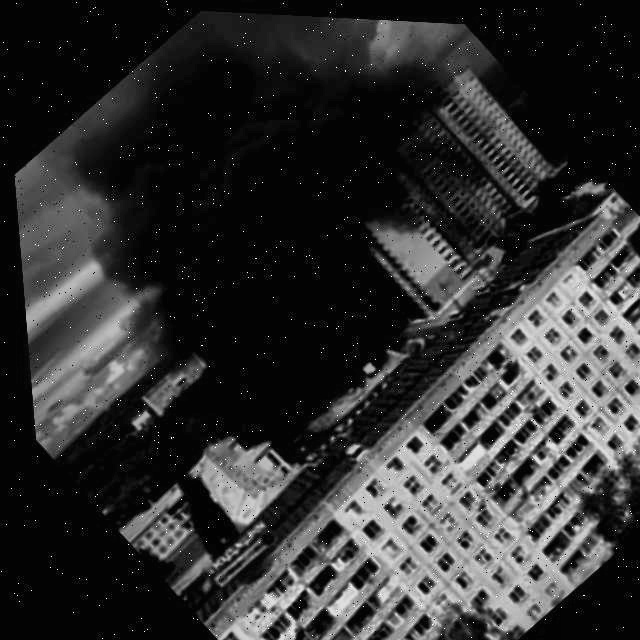Smoke: (9, 0, 566, 470)
